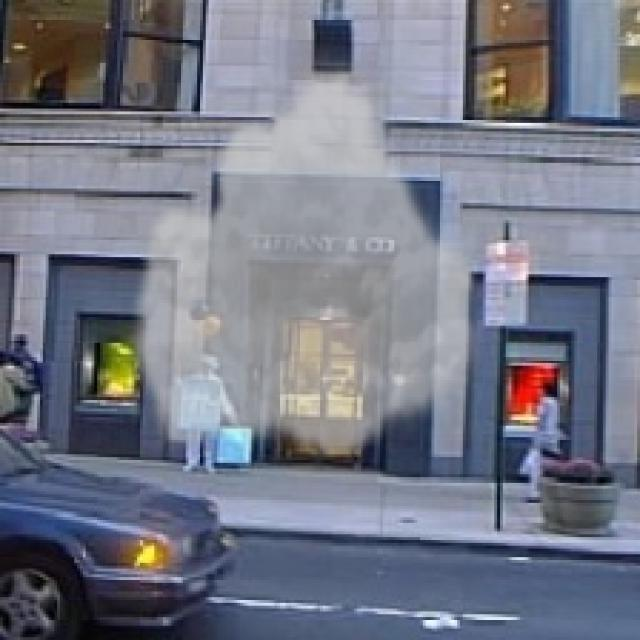Smoke: (126, 63, 488, 463)
